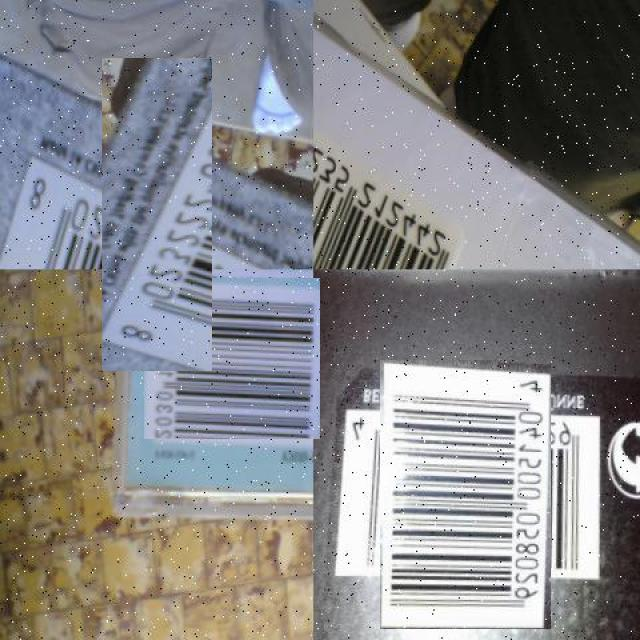Barcode: (356, 384, 576, 605), (51, 108, 262, 320), (147, 274, 317, 443), (313, 87, 468, 269)
